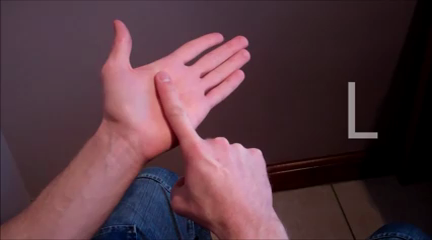L: (88, 9, 291, 231)
